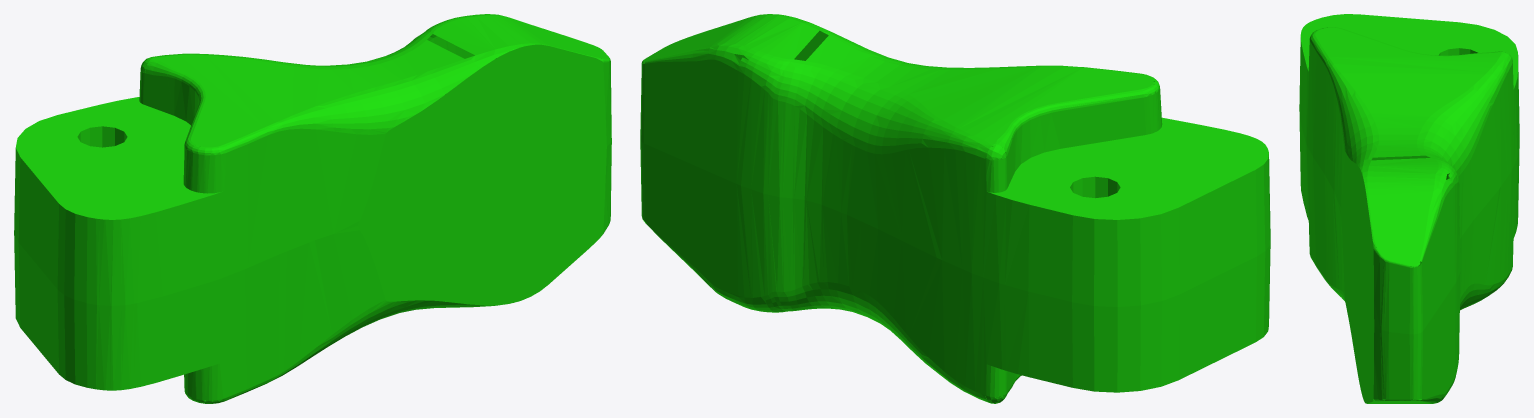
Rendered from jaco_link_finger_tip.min.dae.
3 views of the same model, side by side, from view 1: azimuth 30°, elevation 25°; view 2: azimuth 150°, elevation 25°; view 3: azimuth 270°, elevation 25° (orthographic). The views are drawn at different scales.
Parts seen in each view (by area): view 1: skp9086 (×2); view 2: skp9086 (×2); view 3: skp9086 (×2).
Boxes of the visible parts, x1=… form: skp9086 (×2): x1=14, y1=14, x2=611, y2=403; skp9086 (×2): x1=640, y1=14, x2=1270, y2=403; skp9086 (×2): x1=1299, y1=14, x2=1519, y2=403.
Bounding box in the file's own units: 82.38 × 31.1 × 34.88.
Materials: 1 (1 with a texture image).
